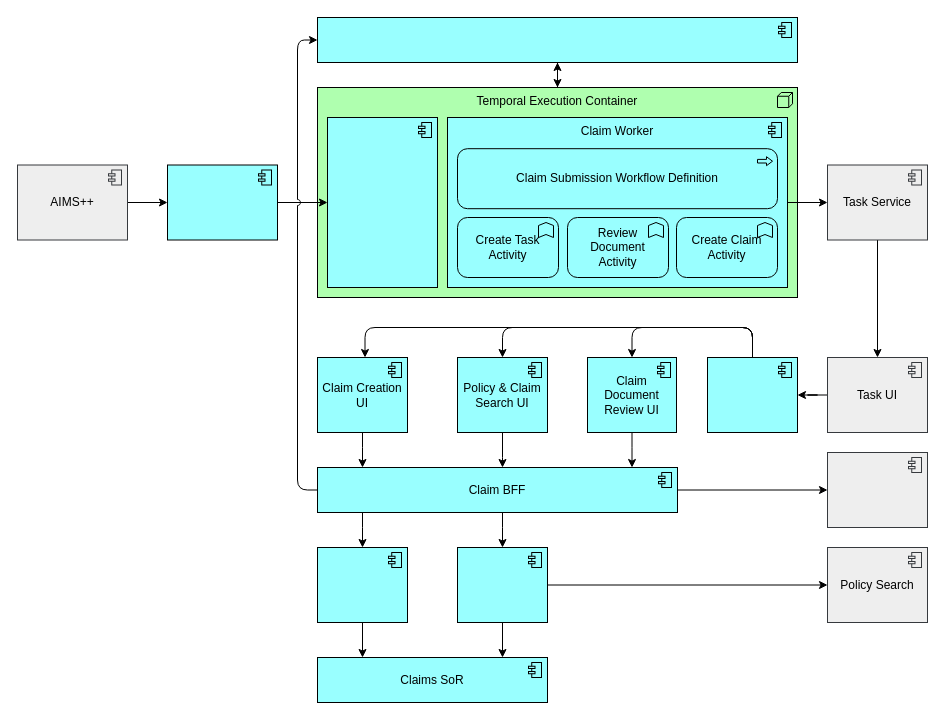
The diagram is 945 pixels wide and 720 high, and some of its shapes have lost their labels. Each missing label, with the centre of its shape:
Claim Creation Service: point 362,584
Claim UI Resolver: point 752,394
Claim Workflow Client: point 382,202
Document Router: point 222,202
Policy & Claim Search Service: point 502,584
Temporal Cluster: point 557,39
User & Org: point 877,490
